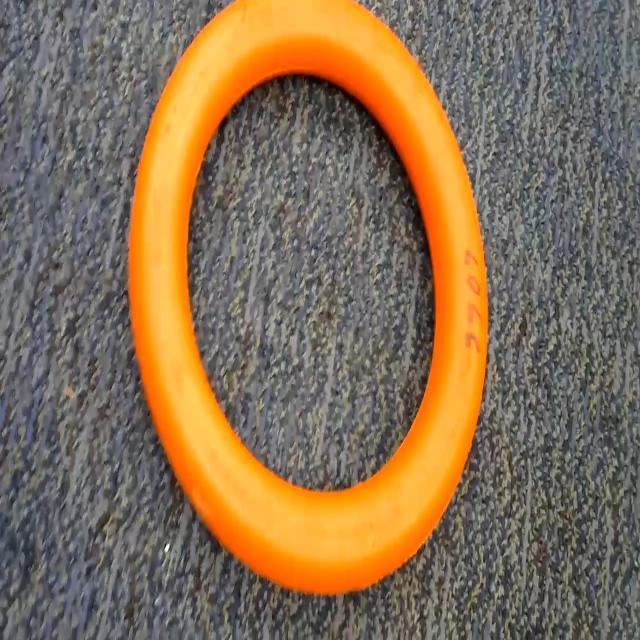note: (120, 0, 521, 588)
